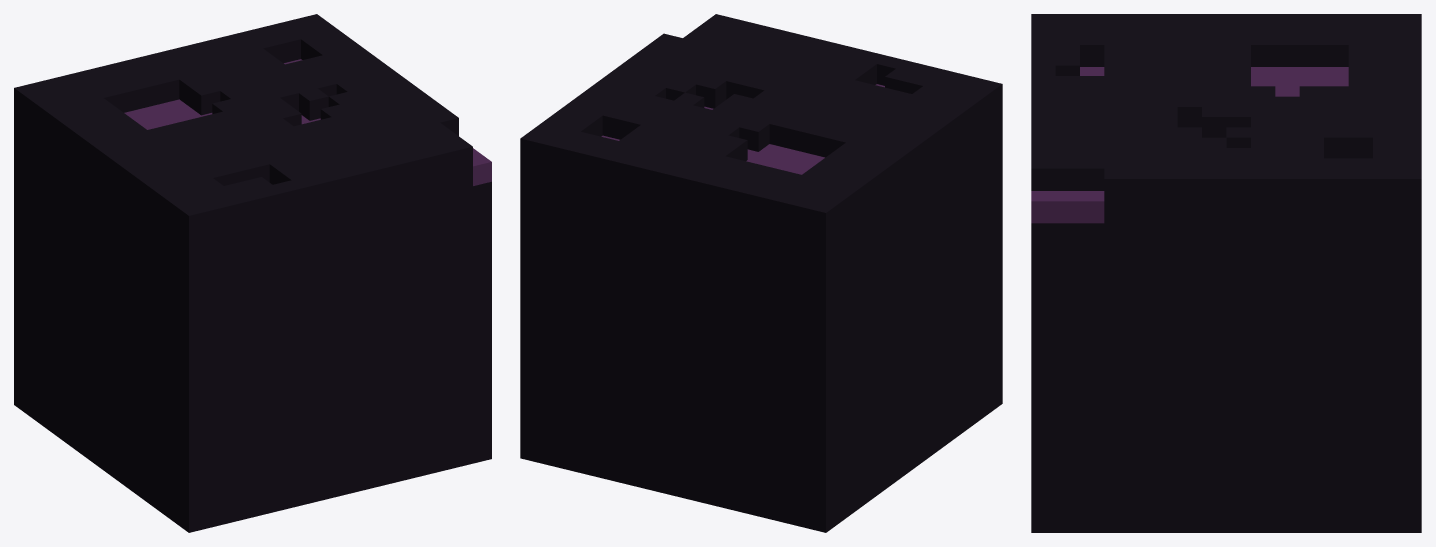
The model's file is tiles-0.obj.
3 views of the same model, side by side, from view 1: azimuth 30°, elevation 25°; view 2: azimuth 150°, elevation 25°; view 3: azimuth 270°, elevation 25° (orthographic). The views are drawn at different scales.
Bounding box in the file's own units: 1.6 × 1.6 × 1.6.
1 material, 1 textured.
